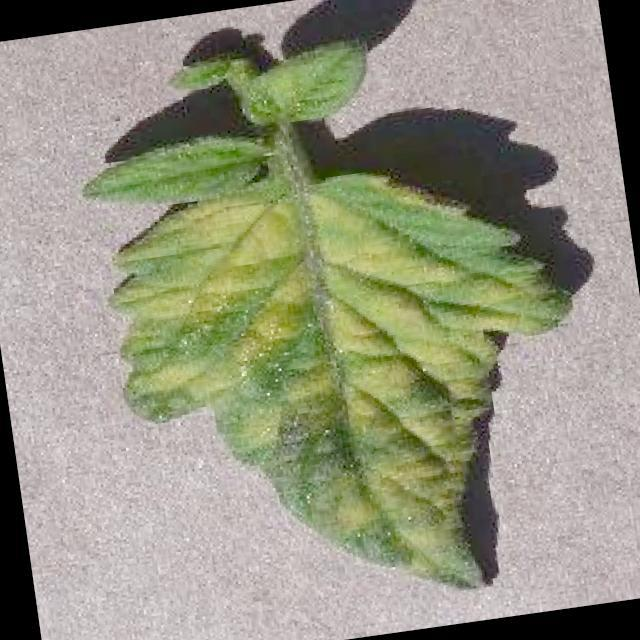Tomato mold leaf: (72, 88, 611, 640)
